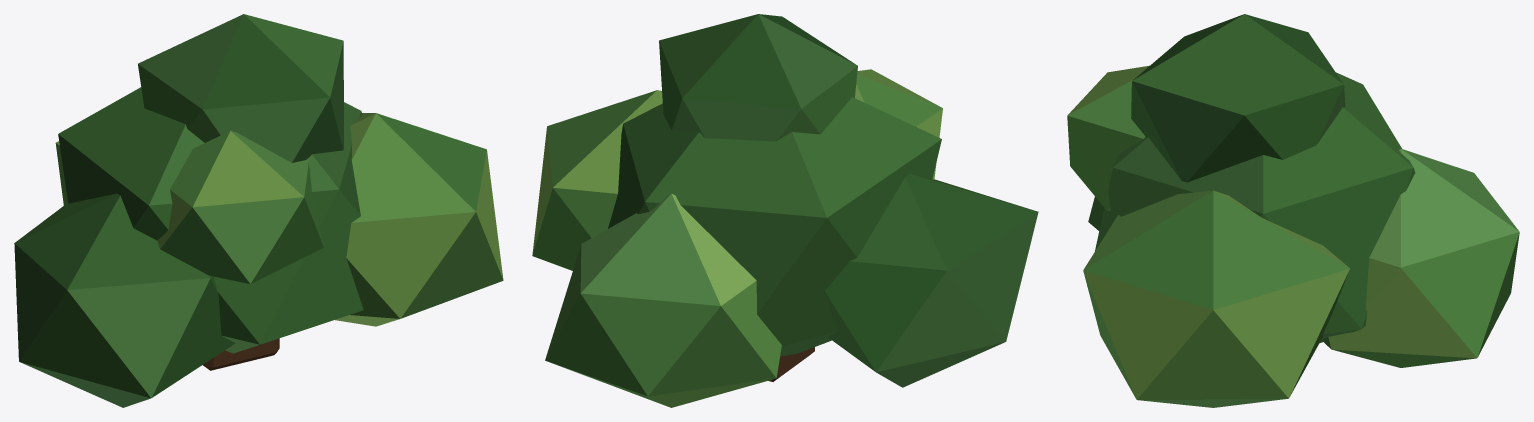
Rendered from Bush.glb.
3 views of the same model, side by side, from view 1: azimuth 30°, elevation 25°; view 2: azimuth 150°, elevation 25°; view 3: azimuth 270°, elevation 25° (orthographic). The views are drawn at different scales.
Visible parts, largest first — view 1: Body; view 2: Body; view 3: Body.
Boxes of the visible parts, x1,y1,x2,y2 form: Body: (14,14,503,407); Body: (532,14,1038,407); Body: (1067,14,1519,407).
Bounding box in the file's own units: 4.37 × 3.17 × 3.62.
